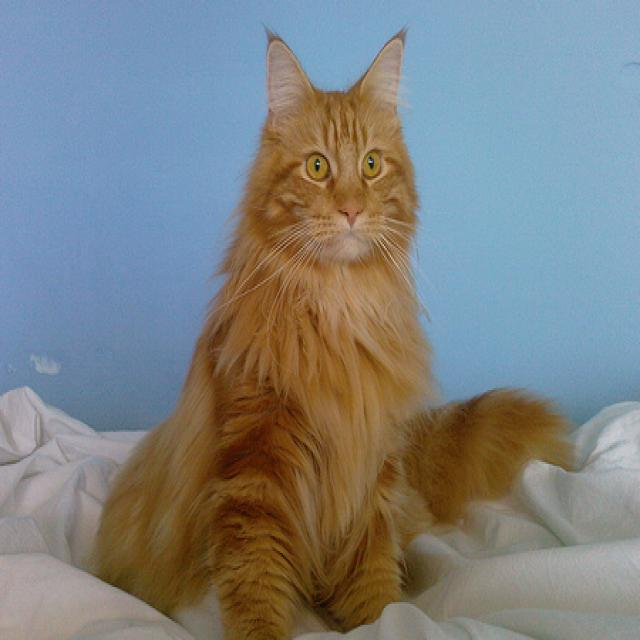Maine Coon: (92, 28, 580, 640)
